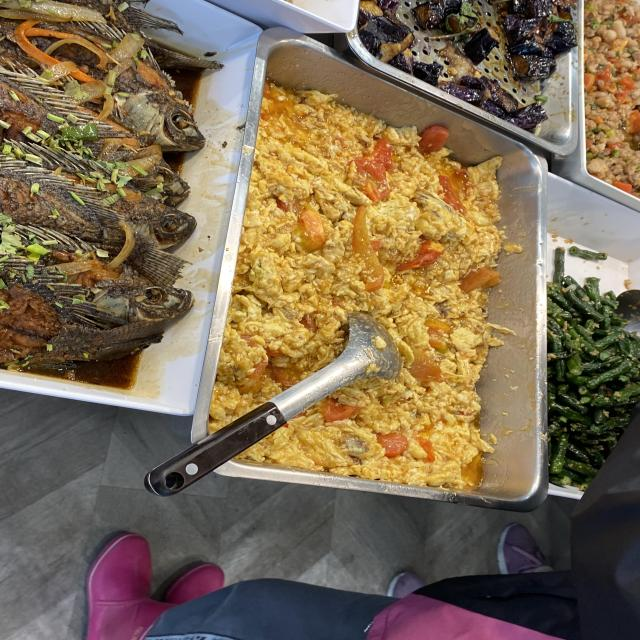Scramble Egg with Tomatoes: (268, 156, 457, 304)
